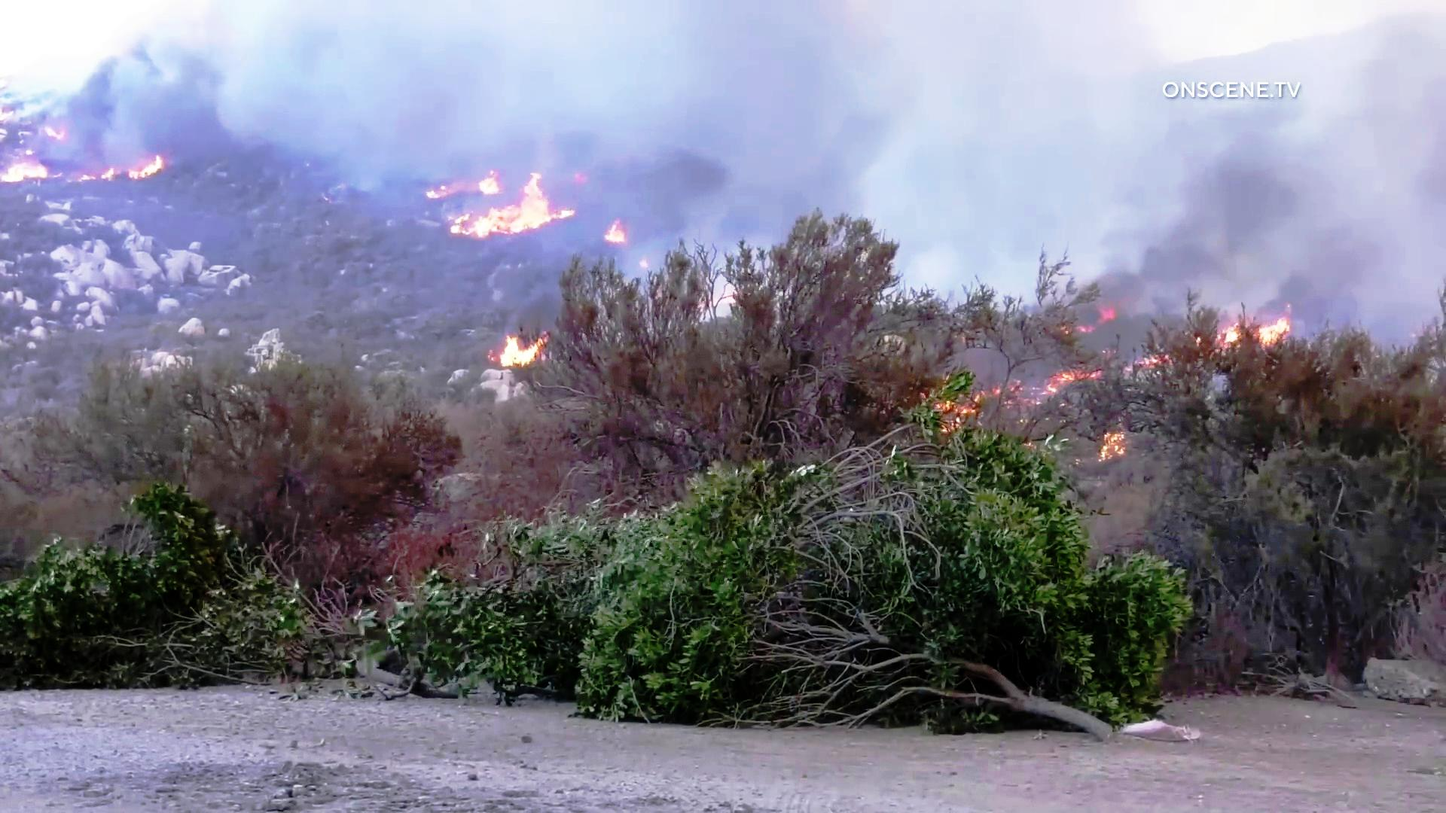fire: (453, 175, 552, 234)
smoke: (1147, 145, 1445, 312)
